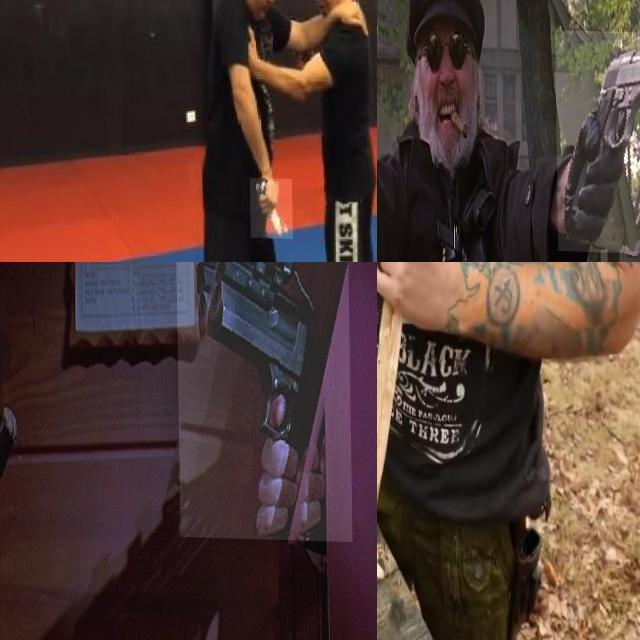-: (377, 300, 443, 431), (249, 176, 291, 237)
gun-knife-thesis - v11 Yolov5 augmented: (175, 262, 351, 539), (554, 27, 640, 250), (377, 0, 433, 220)
